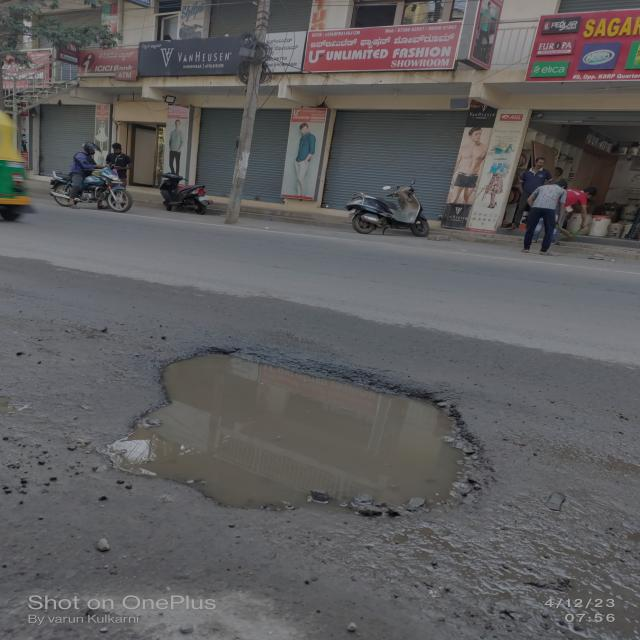Puddle pothole: (98, 342, 500, 521)
